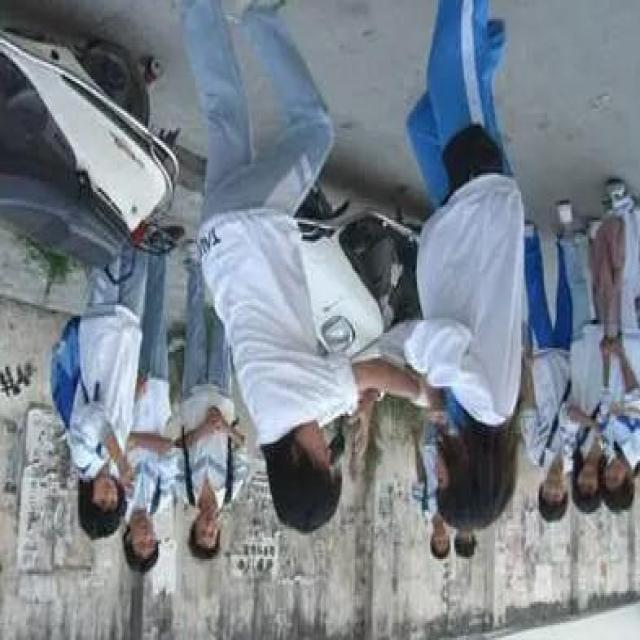fight: (247, 265, 530, 531)
nofight: (43, 230, 154, 544), (168, 256, 238, 568), (554, 186, 608, 518), (531, 215, 571, 542)
